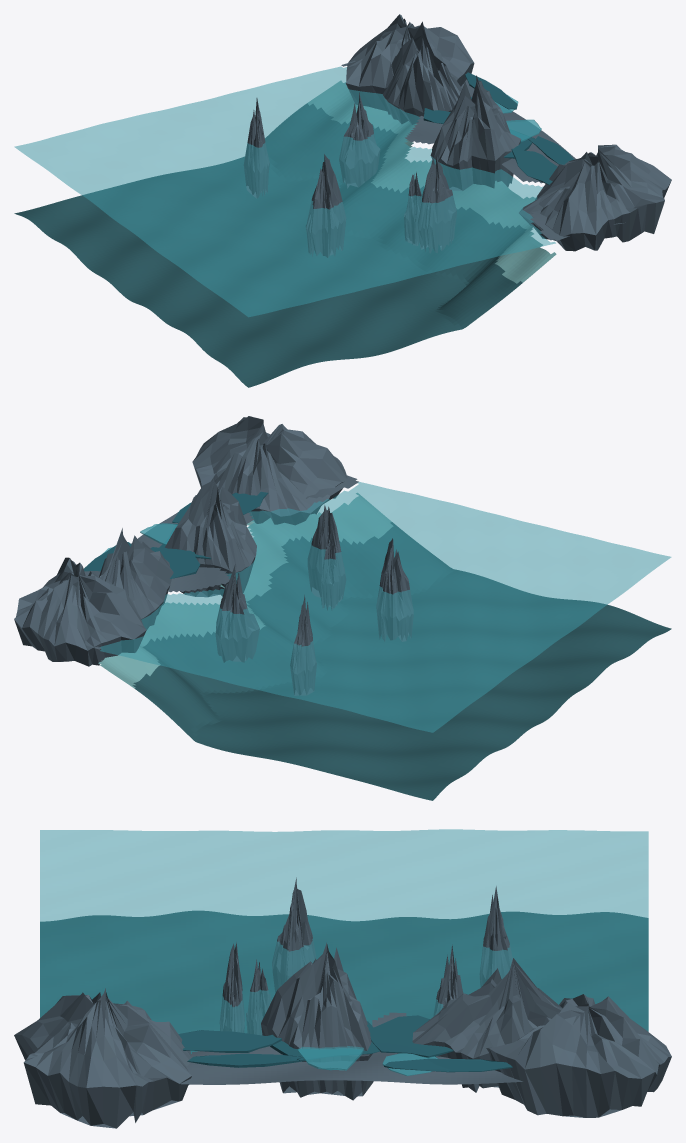
File: water_tile_13.glb
3 renders of one model, top to bottom at view 1: azimuth 30°, elevation 25°; view 2: azimuth 150°, elevation 25°; view 3: azimuth 270°, elevation 25°, orthographic. The views are drawn at different scales.
Parts seen in each view (by area): view 1: glacial water surface 13, submerged mineral riverbed.013, angular fractured shoreline ledge.123, visible shallow mineral shelves.013, angular fractured shoreline ledge.121, angular fractured shoreline ledge.120, angular fractured shoreline ledge.122, underwater worn boulder.043, underwater worn boulder.042, underwater worn boulder.041, single continuous dark slate shoreline.013, underwater worn boulder.045 (+5 smaller); view 2: glacial water surface 13, submerged mineral riverbed.013, angular fractured shoreline ledge.123, angular fractured shoreline ledge.120, visible shallow mineral shelves.013, angular fractured shoreline ledge.121, angular fractured shoreline ledge.122, underwater worn boulder.041, underwater worn boulder.043, single continuous dark slate shoreline.013, underwater worn boulder.042, underwater worn boulder.045 (+2 smaller); view 3: glacial water surface 13, submerged mineral riverbed.013, angular fractured shoreline ledge.123, angular fractured shoreline ledge.120, angular fractured shoreline ledge.121, angular fractured shoreline ledge.122, single continuous dark slate shoreline.013, underwater worn boulder.043, erosion water finger above land.151, erosion water finger above land.154, underwater worn boulder.045, underwater worn boulder.042 (+7 smaller).
Boxes of the visible parts, x1,y1,x2,y2 form: glacial water surface 13: (14,66,555,317); submerged mineral riverbed.013: (14,103,526,387); angular fractured shoreline ledge.123: (519,144,671,251); visible shallow mineral shelves.013: (307,80,556,283); angular fractured shoreline ledge.121: (430,75,520,190); angular fractured shoreline ledge.120: (345,14,474,111); angular fractured shoreline ledge.122: (382,21,461,124); underwater worn boulder.043: (305,154,346,257); underwater worn boulder.042: (417,156,456,253); underwater worn boulder.041: (339,92,380,188); single continuous dark slate shoreline.013: (341,60,625,240); underwater worn boulder.045: (243,98,269,198); glacial water surface 13: (100,482,671,732); submerged mineral riverbed.013: (132,522,671,800); angular fractured shoreline ledge.123: (192,416,347,525); angular fractured shoreline ledge.120: (14,557,146,666); visible shallow mineral shelves.013: (98,493,393,688); angular fractured shoreline ledge.121: (165,477,256,597); angular fractured shoreline ledge.122: (99,528,173,629); underwater worn boulder.041: (215,564,259,662); underwater worn boulder.043: (376,538,413,641); single continuous dark slate shoreline.013: (85,475,358,649); underwater worn boulder.042: (307,505,346,601); underwater worn boulder.045: (290,595,316,695); glacial water surface 13: (40,829,648,1053); submerged mineral riverbed.013: (40,910,648,1084); angular fractured shoreline ledge.123: (14,988,191,1128); angular fractured shoreline ledge.120: (486,994,671,1117); angular fractured shoreline ledge.121: (261,942,373,1100); angular fractured shoreline ledge.122: (412,958,562,1092); single continuous dark slate shoreline.013: (180,1012,522,1084); underwater worn boulder.043: (272,877,316,992); erosion water finger above land.151: (369,1015,453,1058); erosion water finger above land.154: (178,1030,281,1052); underwater worn boulder.045: (479,886,512,987); underwater worn boulder.042: (219,942,244,1032).
Bounding box in the file's own units: 1.09 × 0.3527 × 1.08.
